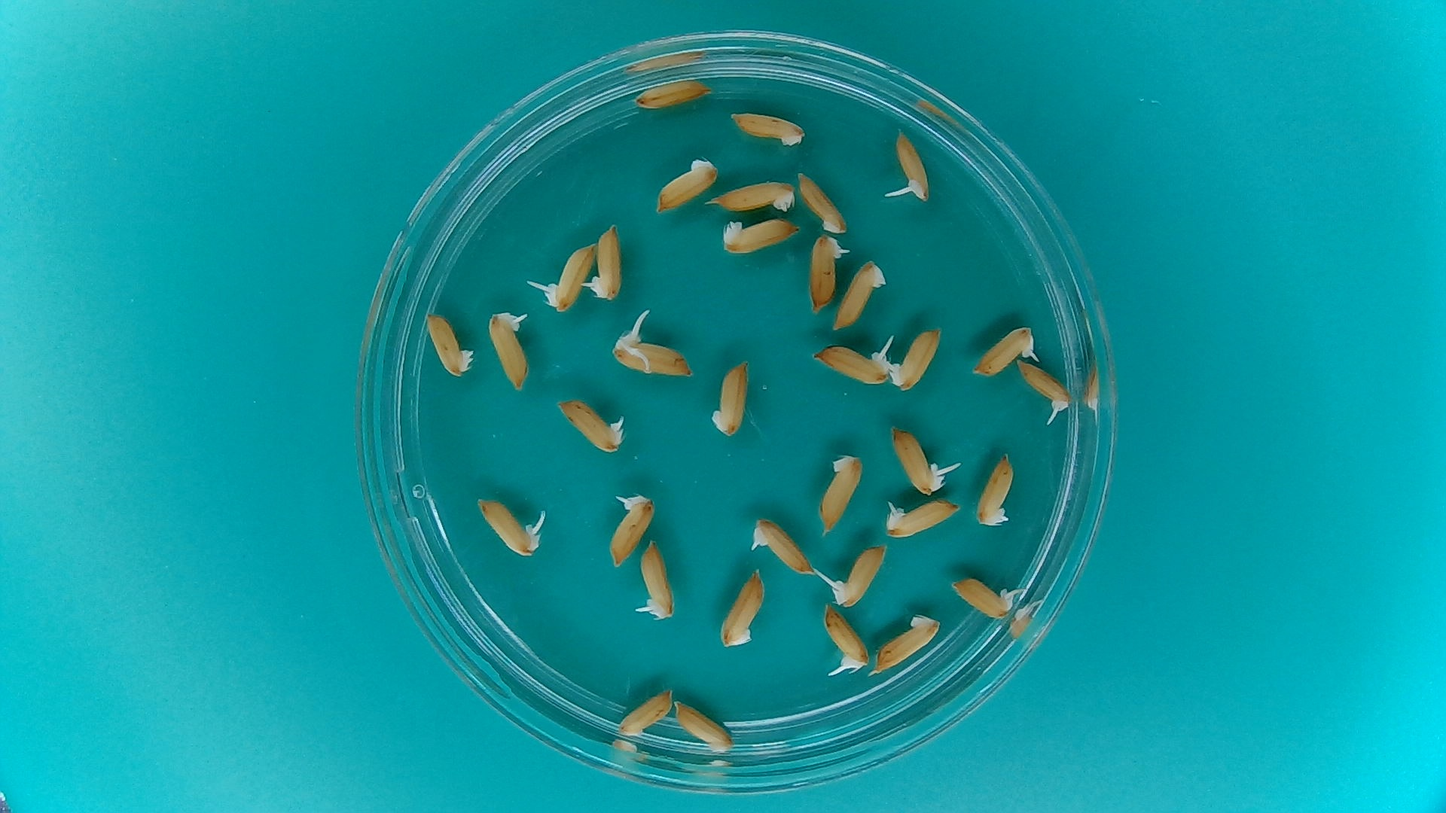no: (831, 255, 892, 335), (869, 611, 944, 676), (813, 448, 867, 537), (714, 565, 767, 652), (650, 154, 723, 216), (888, 321, 947, 396), (423, 305, 478, 379), (708, 354, 755, 440), (794, 166, 850, 234), (716, 214, 803, 257), (973, 446, 1017, 531), (724, 105, 809, 148), (708, 175, 799, 215), (615, 685, 677, 740), (630, 73, 714, 113), (673, 699, 734, 753)
yes: (803, 227, 850, 315), (555, 399, 628, 455), (749, 517, 816, 575), (831, 540, 889, 606), (882, 496, 965, 541), (477, 497, 539, 556), (813, 343, 896, 386), (611, 333, 690, 378), (823, 601, 871, 671), (487, 313, 530, 391), (974, 324, 1036, 378), (548, 242, 595, 313), (895, 429, 947, 493), (609, 493, 655, 564), (1017, 357, 1074, 414), (950, 577, 1018, 620), (587, 227, 624, 305), (639, 541, 673, 620), (894, 133, 932, 203)
